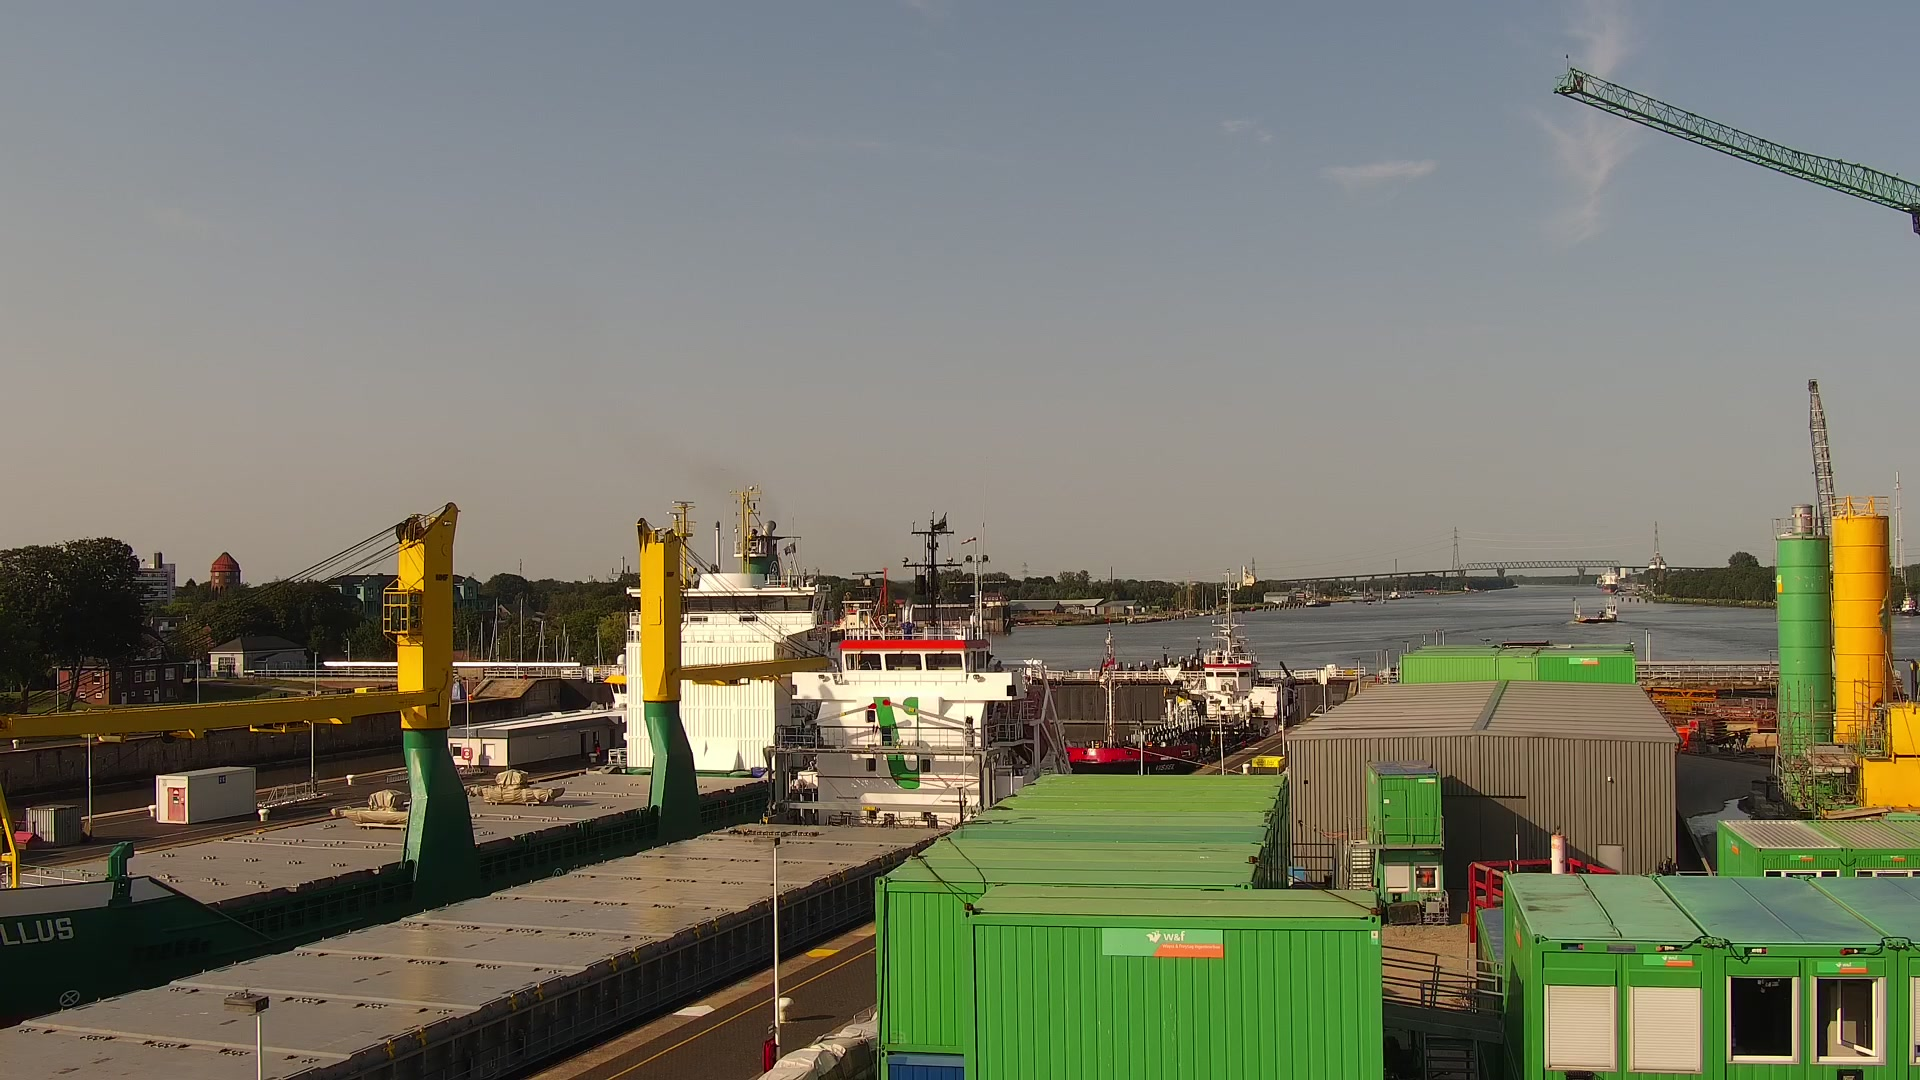sea: (5, 516, 1064, 1080), (1, 484, 841, 990), (1062, 564, 1304, 775), (1572, 591, 1618, 622), (1304, 582, 1332, 607), (1601, 564, 1619, 593), (1379, 584, 1387, 605), (1389, 589, 1400, 600)
